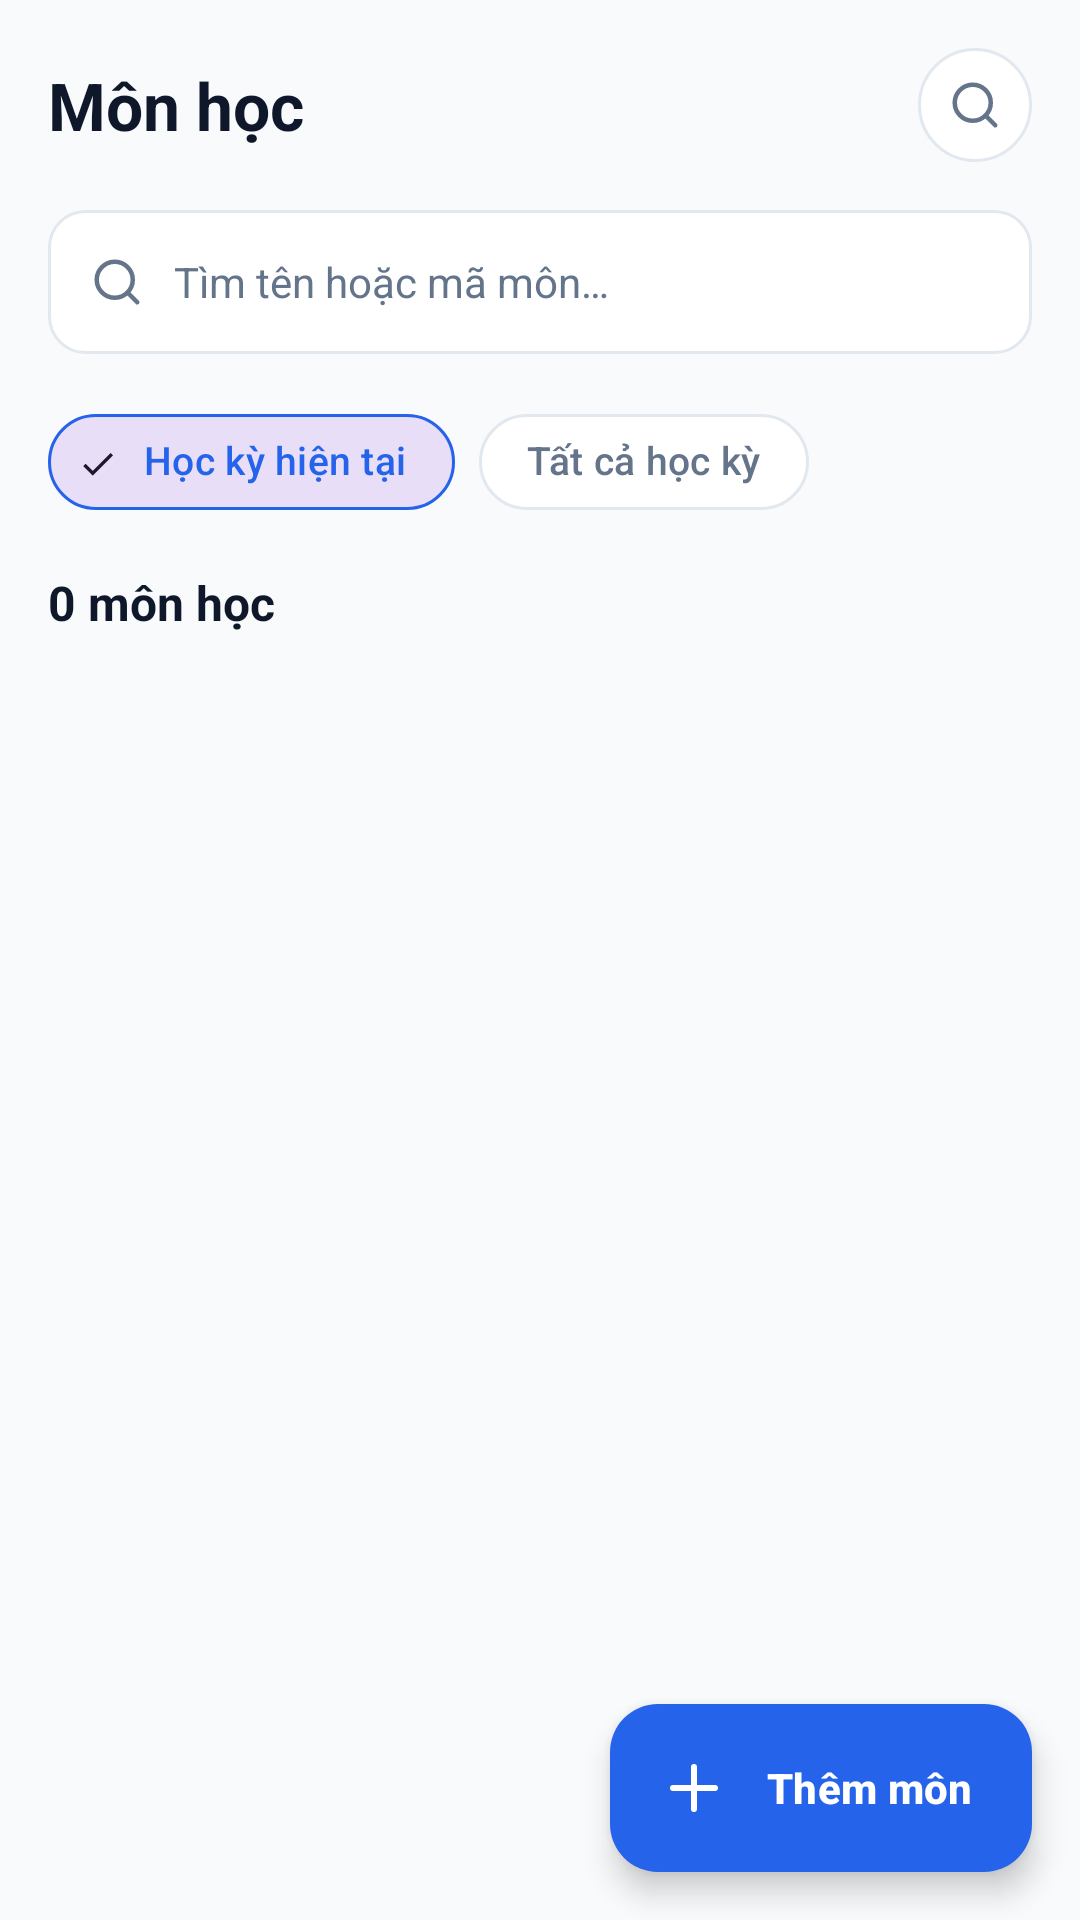

Icon click points for this 1080x1920 phone screenshot, format [x,y]:
search: [975,105], [117,282]
